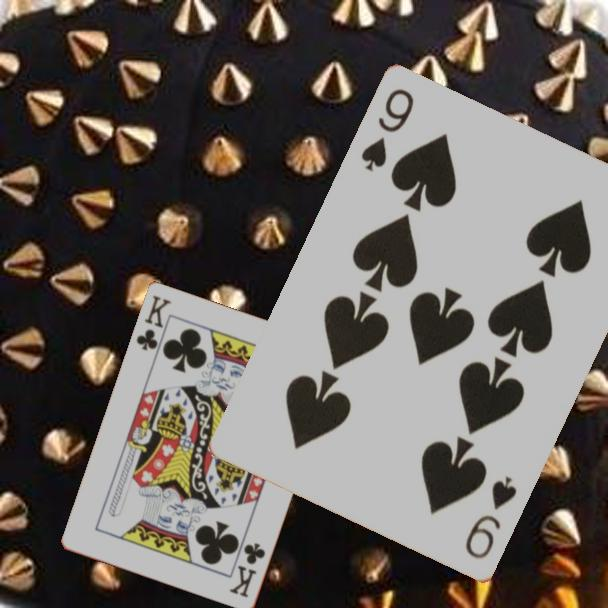c13: (226, 540, 269, 601), (133, 292, 174, 354)
s09: (357, 85, 417, 175), (462, 473, 520, 563)
